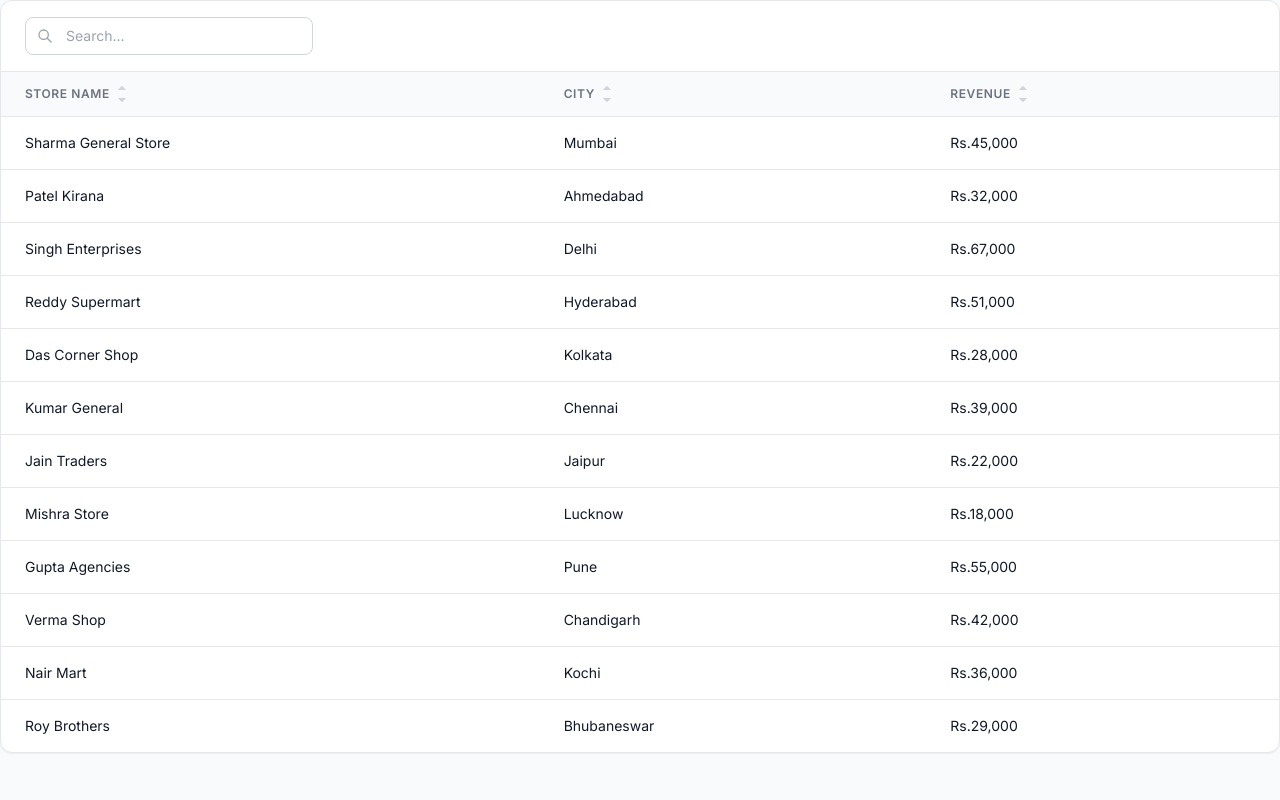
Test: DataTable › Search › should show empty message when search matches nothing
The width and height of the screenshot is (1280, 800).
Step 1. Type "zzzznonexistent" into the field with placeholder "Search..." → [169, 36], box left=25, top=17, right=313, bottom=55
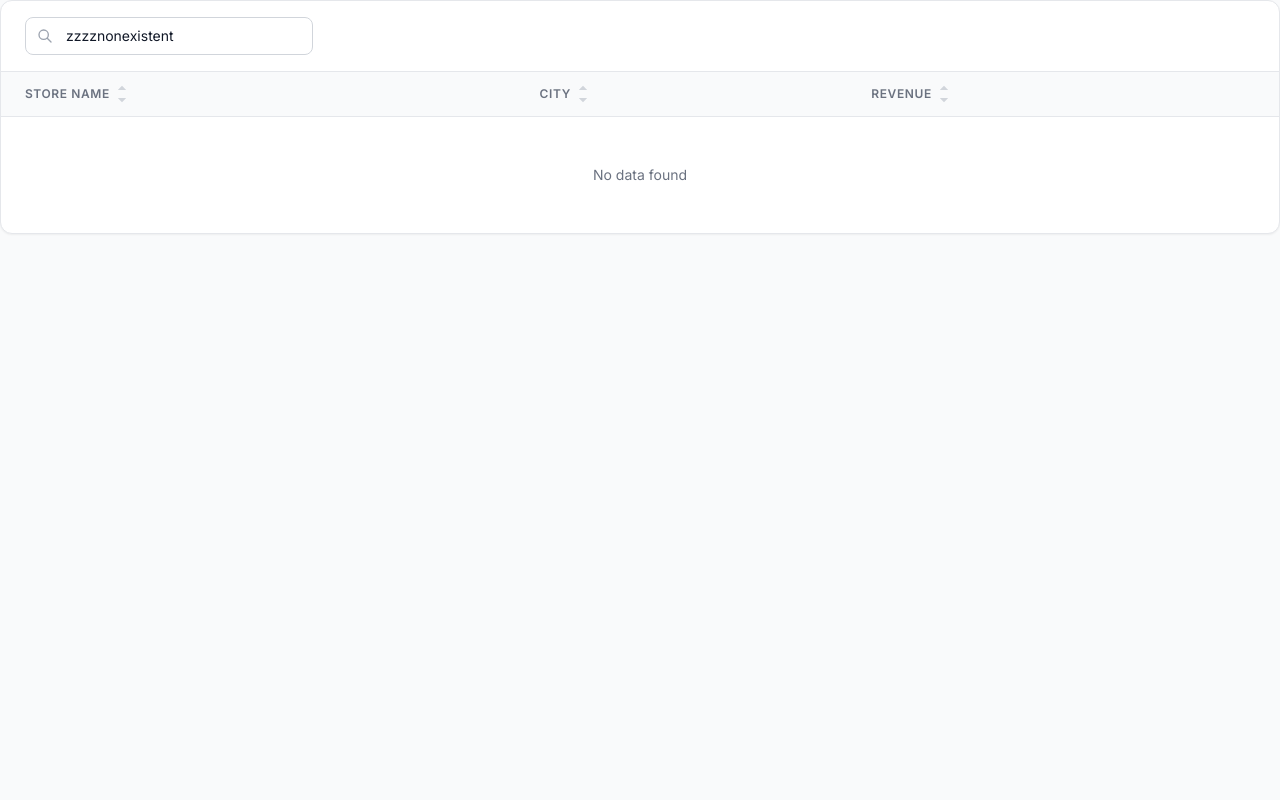
Expected: the text "No data found" is shown, left=1, top=116, right=1279, bottom=233
